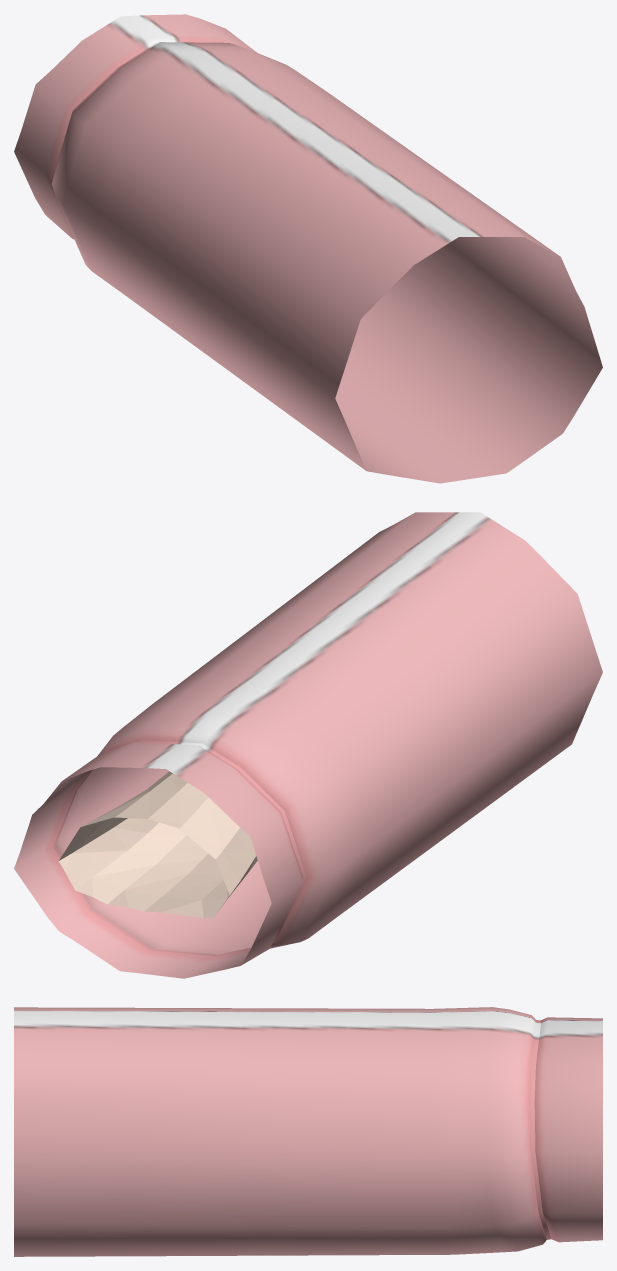
File: HitoriFretFore.obj
The picture shows the model from 3 angles, top to bottom: view 1: azimuth 30°, elevation 25°; view 2: azimuth 150°, elevation 25°; view 3: azimuth 270°, elevation 25°; orthographic projection. The views are drawn at different scales.
Size of the model in its own units: 0.1717 by 0.1459 by 0.3492.
2 materials, 2 textured.
